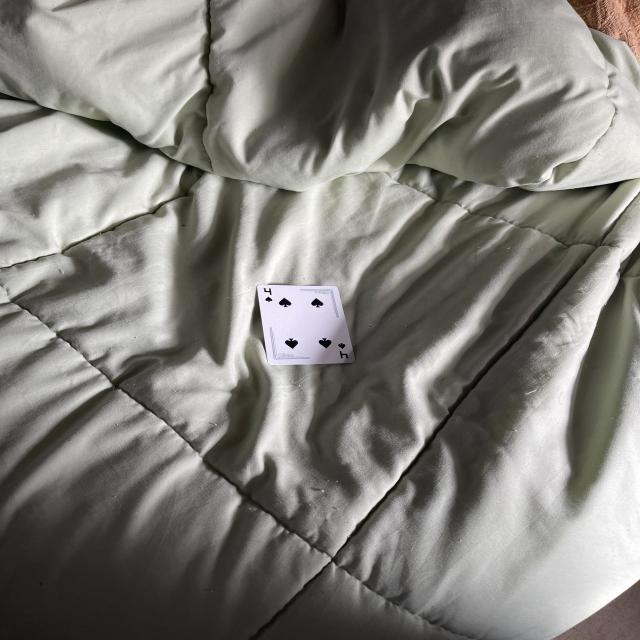4 of spades: (259, 286, 355, 365)
